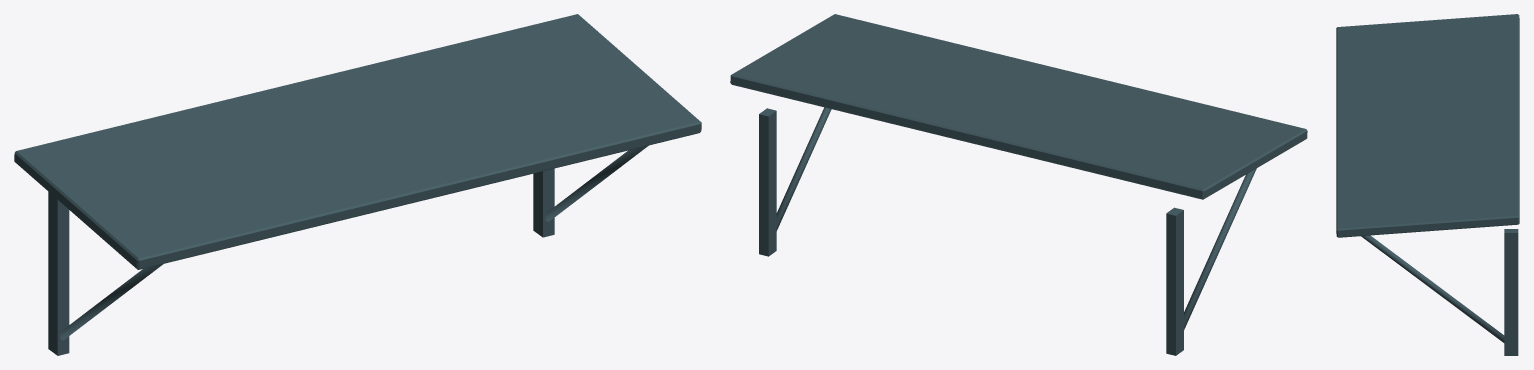
File: shop_awning.glb
The picture shows the model from 3 angles, left to right: view 1: azimuth 30°, elevation 25°; view 2: azimuth 150°, elevation 25°; view 3: azimuth 270°, elevation 25°; orthographic projection. The views are drawn at different scales.
Parts seen in each view (by area): view 1: shop_awning__VVK_painted_steel; view 2: shop_awning__VVK_painted_steel; view 3: shop_awning__VVK_painted_steel.
Part boxes in pixels (x1,y1,x2,y2): shop_awning__VVK_painted_steel: [14, 14, 701, 355]; shop_awning__VVK_painted_steel: [730, 14, 1307, 355]; shop_awning__VVK_painted_steel: [1336, 14, 1519, 355].
Size of the model in its own units: 1.7 by 0.593 by 0.6499.
